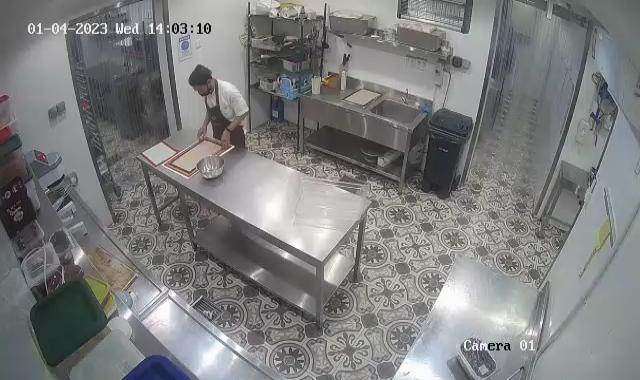no_hairnet: (186, 66, 214, 90)
